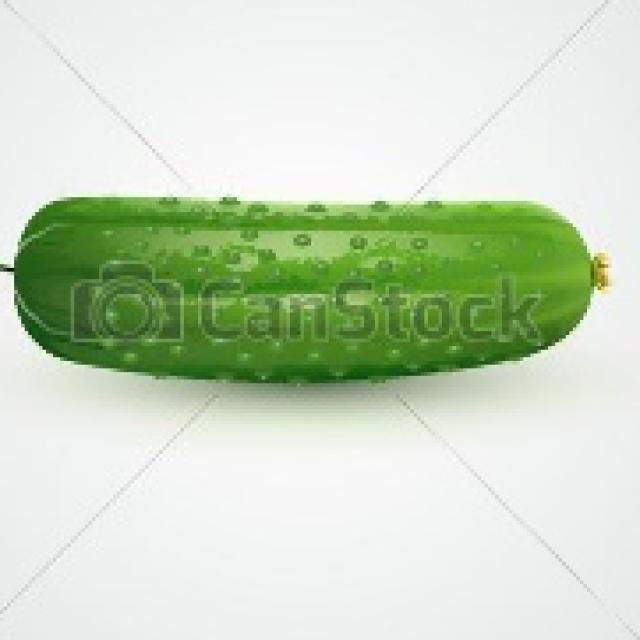cucumber: (7, 194, 598, 384)
